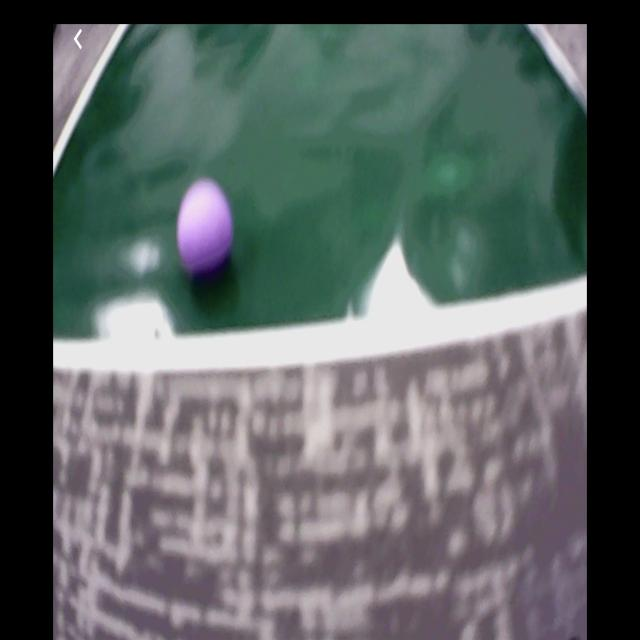ball: (178, 181, 234, 274)
